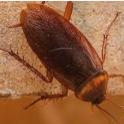cockroach: (19, 1, 108, 104)
